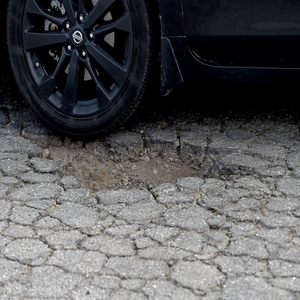pothole: (23, 134, 255, 193)
